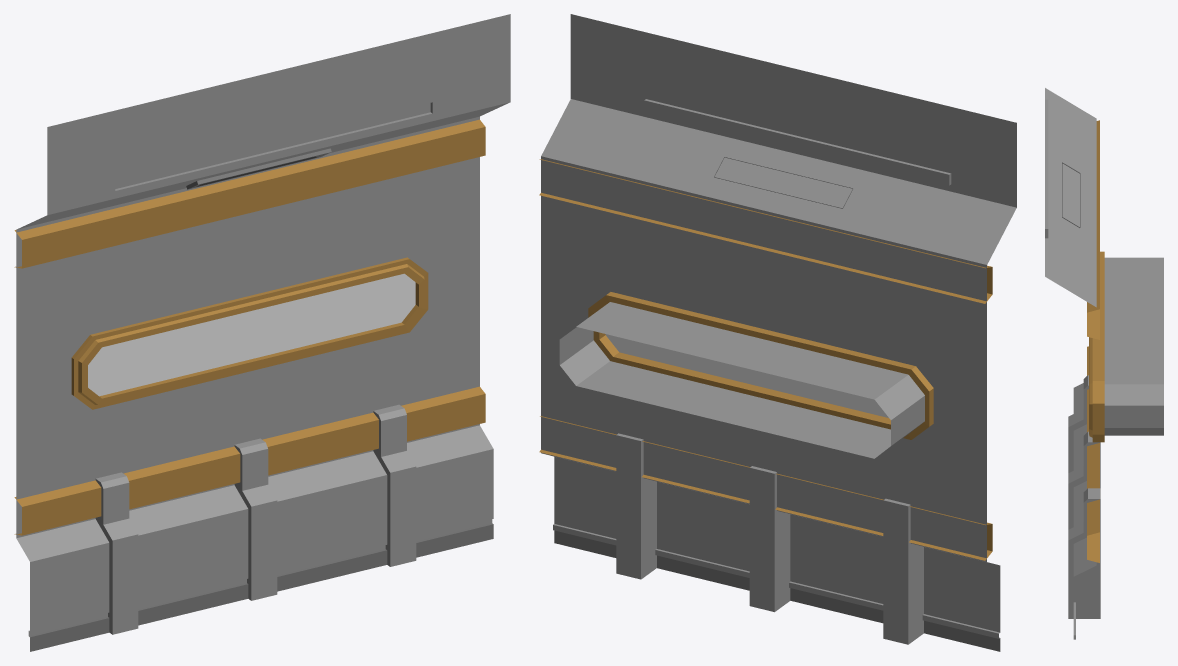
The model's file is LongWindow_Wall_SideA.fbx.
3 views of the same model, side by side, from view 1: azimuth 30°, elevation 25°; view 2: azimuth 150°, elevation 25°; view 3: azimuth 270°, elevation 25° (orthographic). The views are drawn at different scales.
Parts seen in each view (by area): view 1: LongWindow_Wall_SideA; view 2: LongWindow_Wall_SideA; view 3: LongWindow_Wall_SideA.
Part boxes in pixels (box(x1,y1,x2,y2)): LongWindow_Wall_SideA: box(14, 14, 510, 651); LongWindow_Wall_SideA: box(539, 14, 1016, 651); LongWindow_Wall_SideA: box(1045, 88, 1163, 639).
Size of the model in its own units: 400 by 443 by 106.
